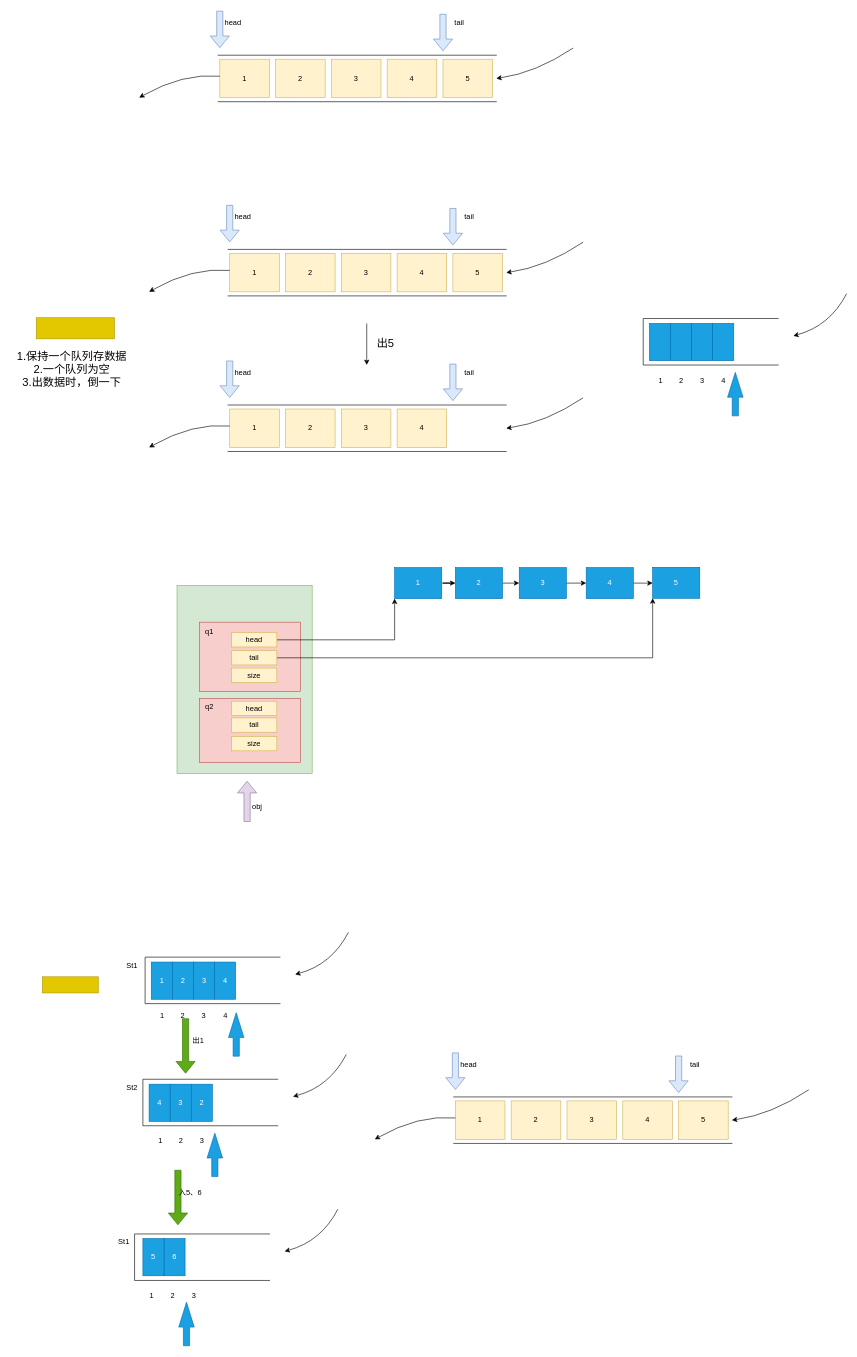
Image size: 857x1357. Some labels were removed from this diagram. The box of each missing label's shape, as (x1, y1, x2, y2) in pixels:
用栈实现队列: (42, 976, 98, 993)
用队列实现栈: (36, 317, 114, 339)
